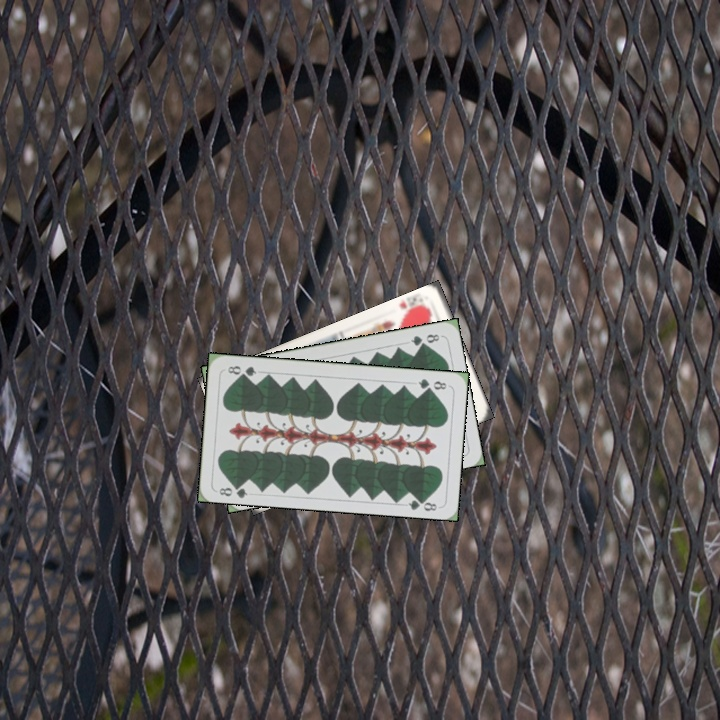G8: (215, 479, 250, 500), (407, 330, 442, 349), (414, 375, 449, 393)
HK: (395, 297, 429, 318)
